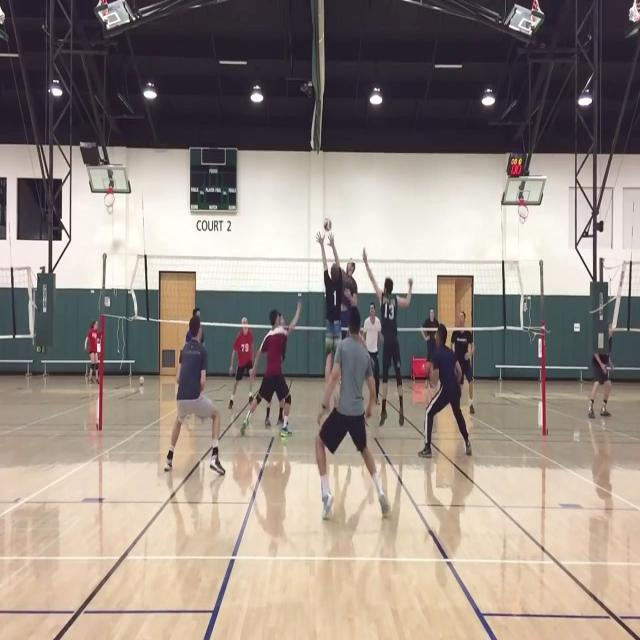volleyball: (323, 218, 332, 230)
